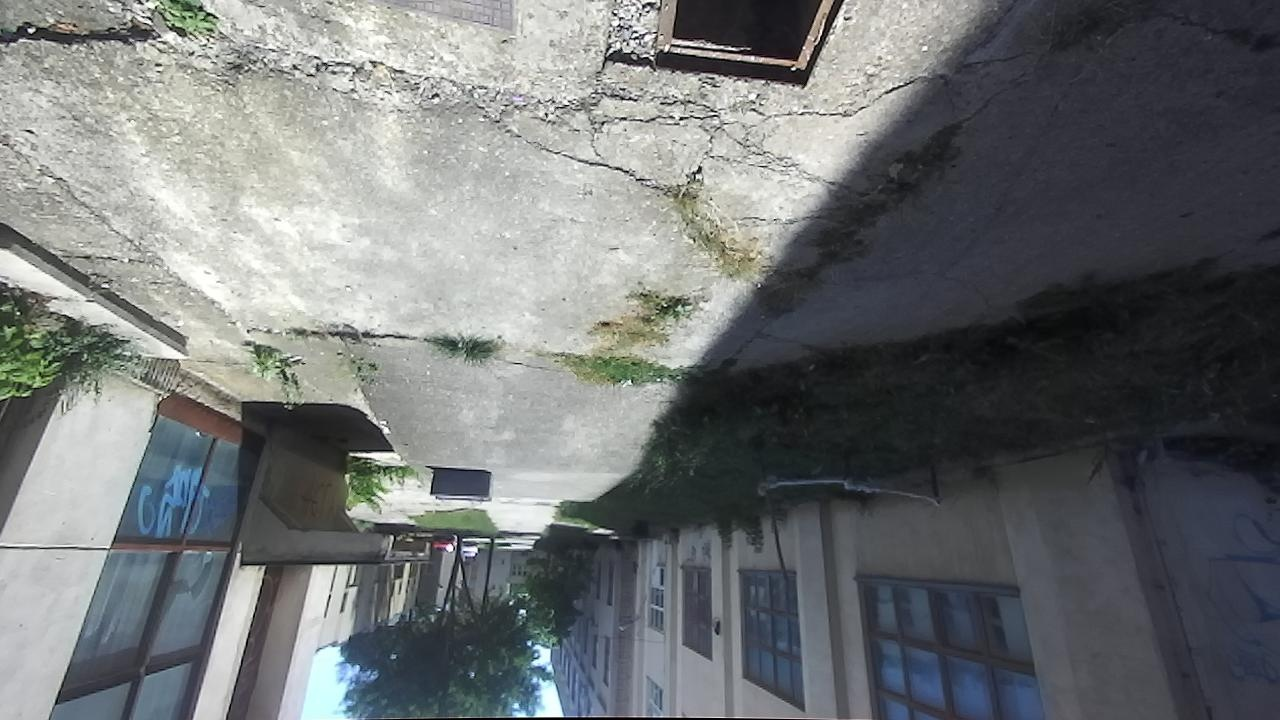drain: (640, 0, 849, 86)
